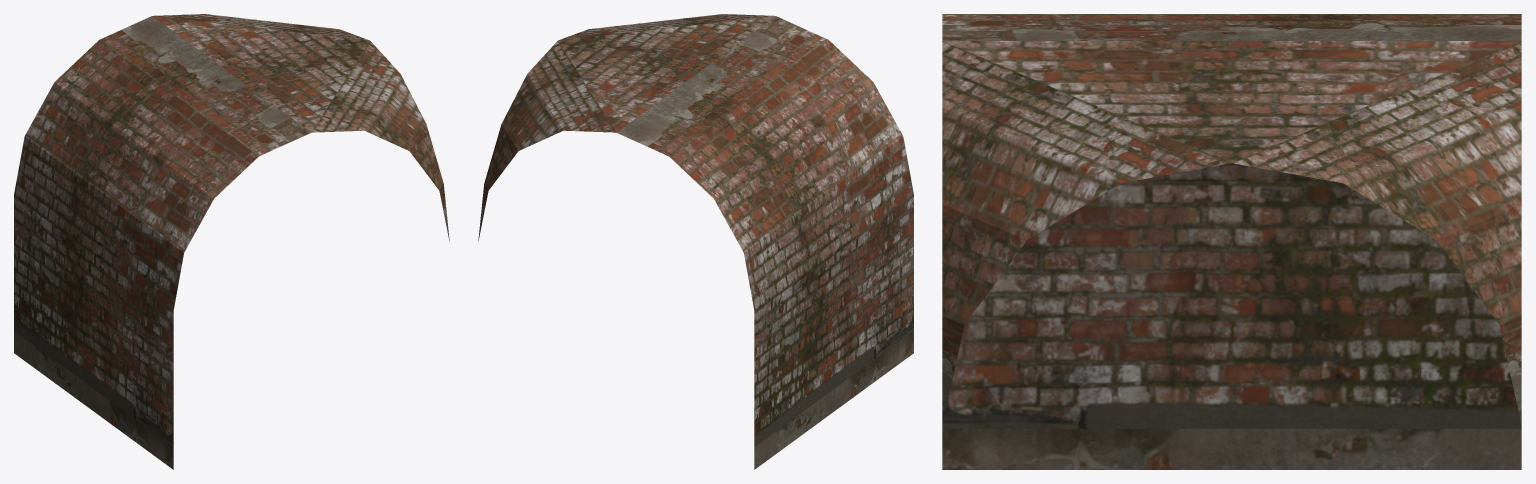
File: tunnel_Wall4_GEO.fbx
3 views of the same model, side by side, from view 1: azimuth 30°, elevation 25°; view 2: azimuth 150°, elevation 25°; view 3: azimuth 270°, elevation 25° (orthographic). The views are drawn at different scales.
Visible parts, largest first — view 1: tunnel_Wall4_GEO; view 2: tunnel_Wall4_GEO; view 3: tunnel_Wall4_GEO.
Part boxes in pixels (x1,y1,x2,y2): tunnel_Wall4_GEO: (14,14,449,469); tunnel_Wall4_GEO: (478,14,913,469); tunnel_Wall4_GEO: (942,14,1521,469).
Size of the model in its own units: 5 by 5.25 by 5.
